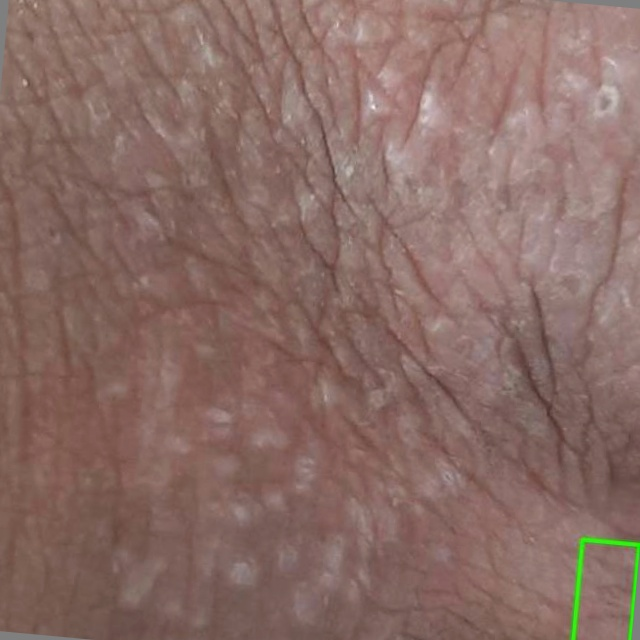Eczema: (573, 539, 639, 639)
